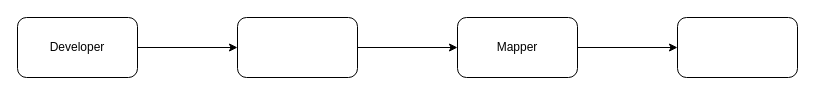
Image size: 815x95. Some labels were removed from this diagram. Each missing label, with the box of its shape:
KB Graph: (676, 16, 798, 78)
Parser: (236, 16, 358, 78)
